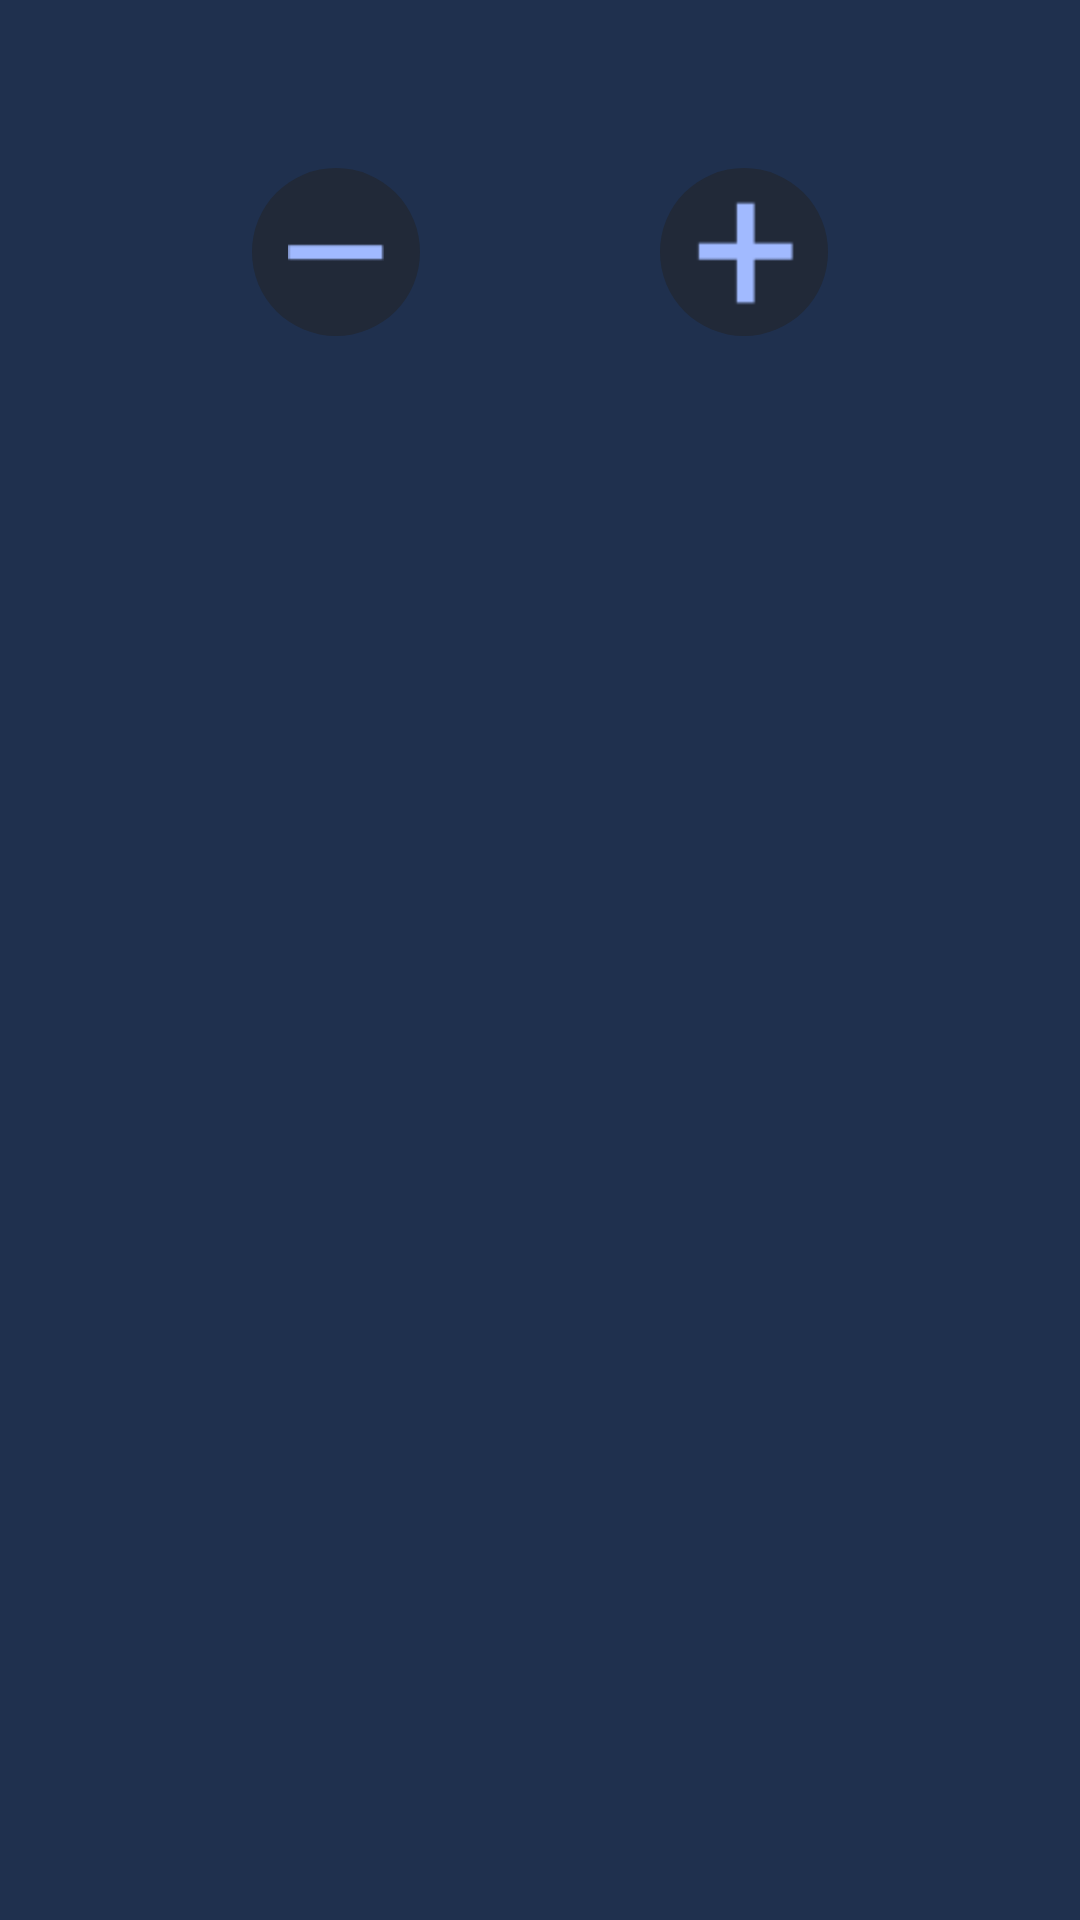

Where icons sit on this 1080px x 1920px app screen, as detection(x1, y1, x2, y2):
counter minus: detection(288, 244, 384, 260)
counter plus: detection(660, 168, 828, 336)
